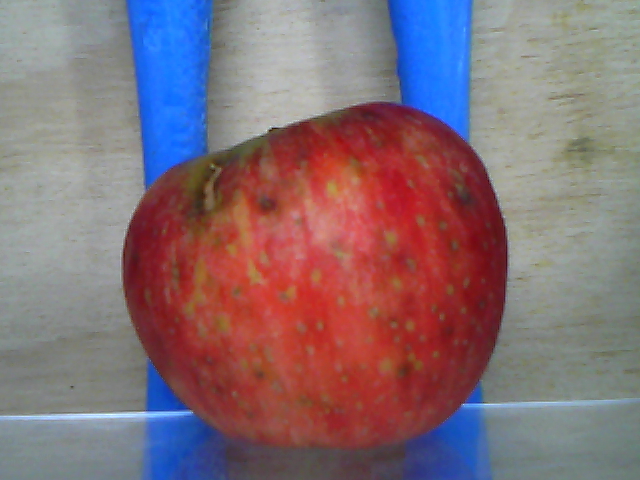cut: (198, 159, 222, 210)
